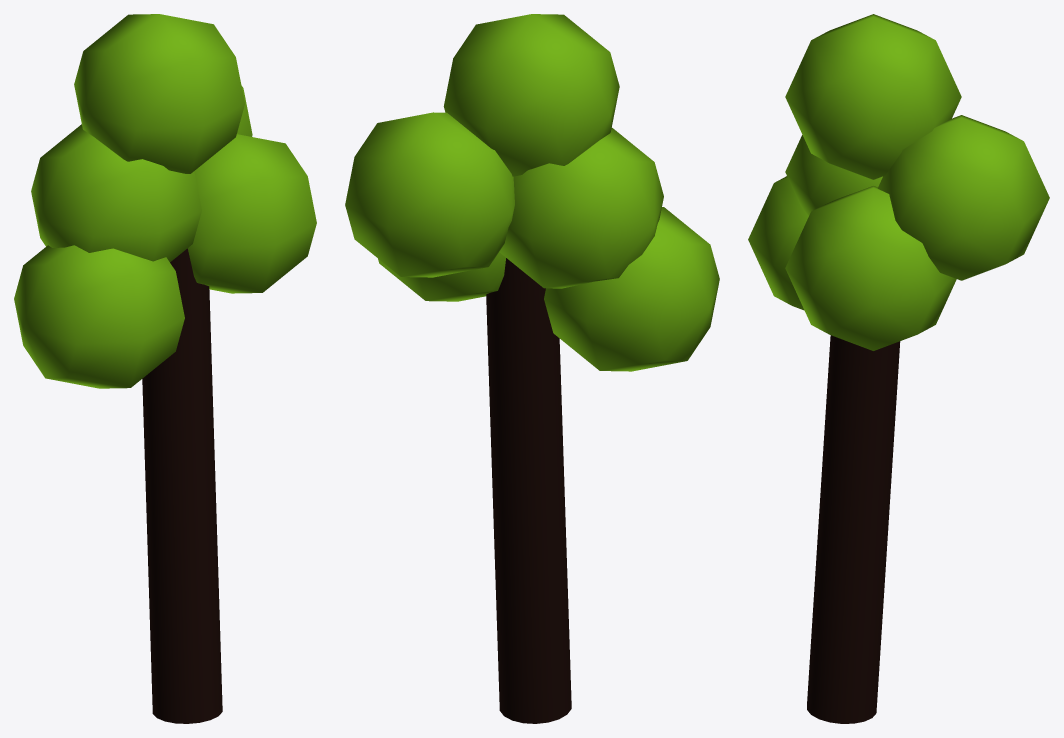
The model's file is SM_arbre.FBX.
3 views of the same model, side by side, from view 1: azimuth 30°, elevation 25°; view 2: azimuth 150°, elevation 25°; view 3: azimuth 270°, elevation 25° (orthographic). The views are drawn at different scales.
Parts seen in each view (by area): view 1: Cylinder006; view 2: Cylinder006; view 3: Cylinder006.
Boxes of the visible parts, x1,y1,x2,y2 form: Cylinder006: [14, 14, 316, 723]; Cylinder006: [345, 14, 719, 723]; Cylinder006: [748, 14, 1049, 723].
Size of the model in its own units: 23.66 by 51.31 by 20.4.
